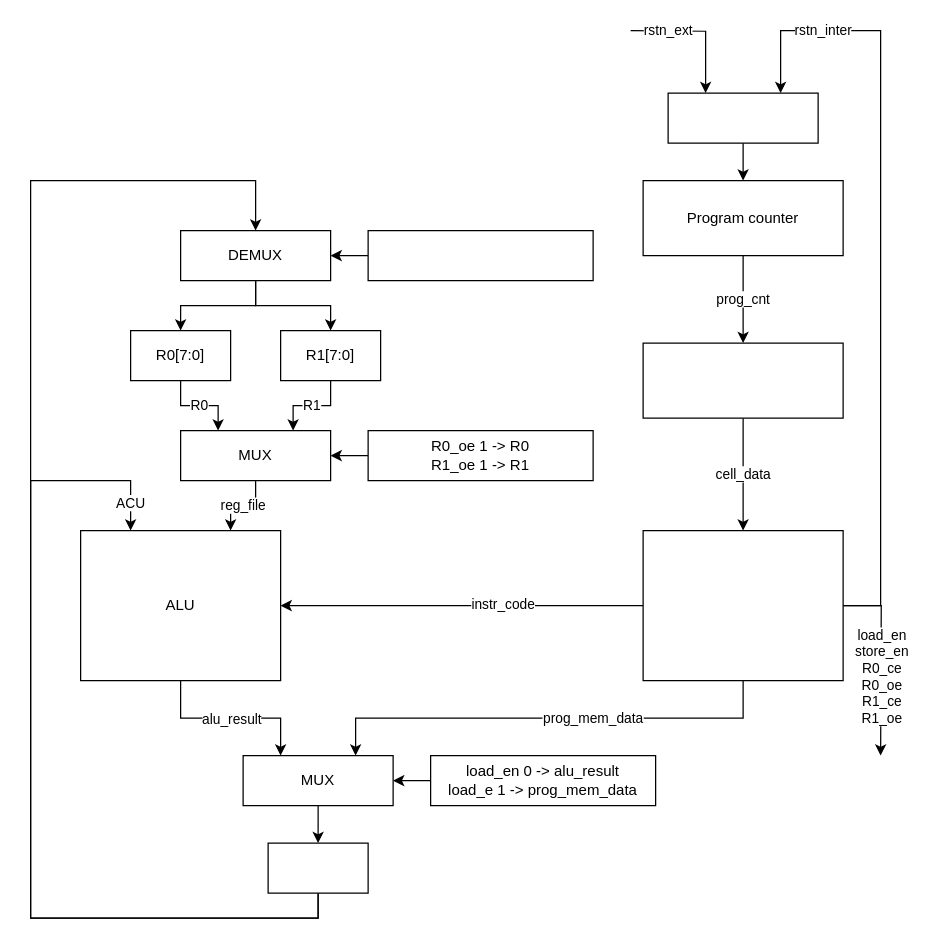
This 930x950 diagram has some shape labels left out. Each missing label, with the box of its shape:
ACU[7:0]: (267, 842, 368, 893)
Instruction Decoder: (642, 529, 843, 681)
ROM memory empty[1:0], R1, R0, instr_code[3:0], data[7:0]: (642, 342, 843, 418)
rstn_inter & rstn_ext: (667, 92, 818, 143)
store_en 1 & R0_ce 1 -> R0 store_en 1 & R1_ce 1 -> R1: (367, 229, 593, 281)
